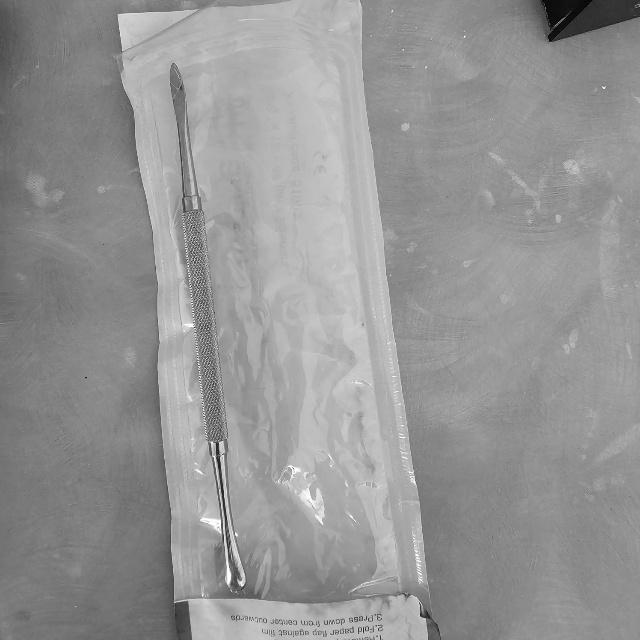elevador: (169, 67, 250, 591), (169, 64, 246, 589)
